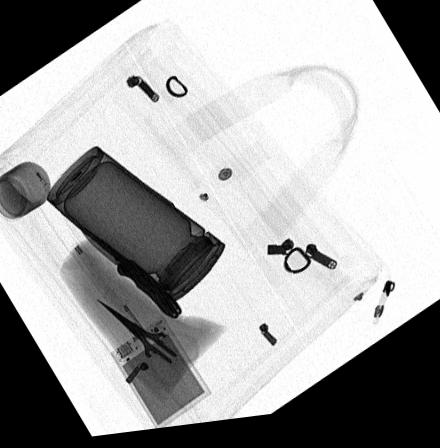Knife: (75, 221, 182, 323)
Powerbank: (109, 319, 211, 433)
Scissors: (94, 296, 202, 390)
